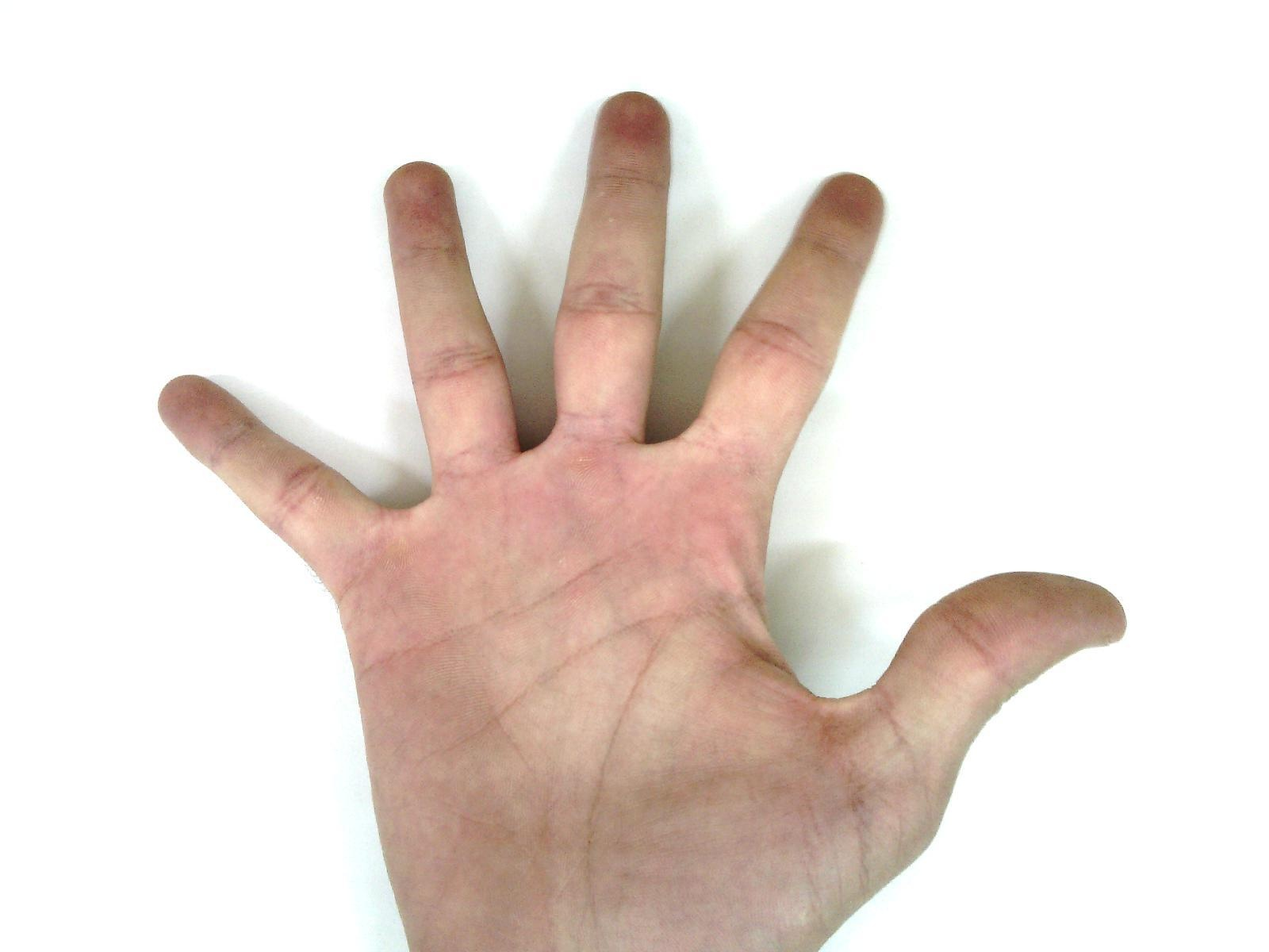open_palm: (155, 90, 1129, 951)
